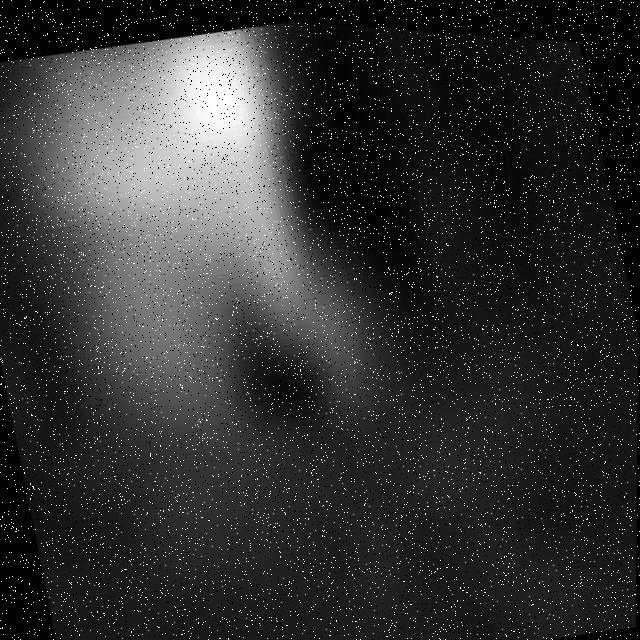person: (1, 3, 382, 574)
